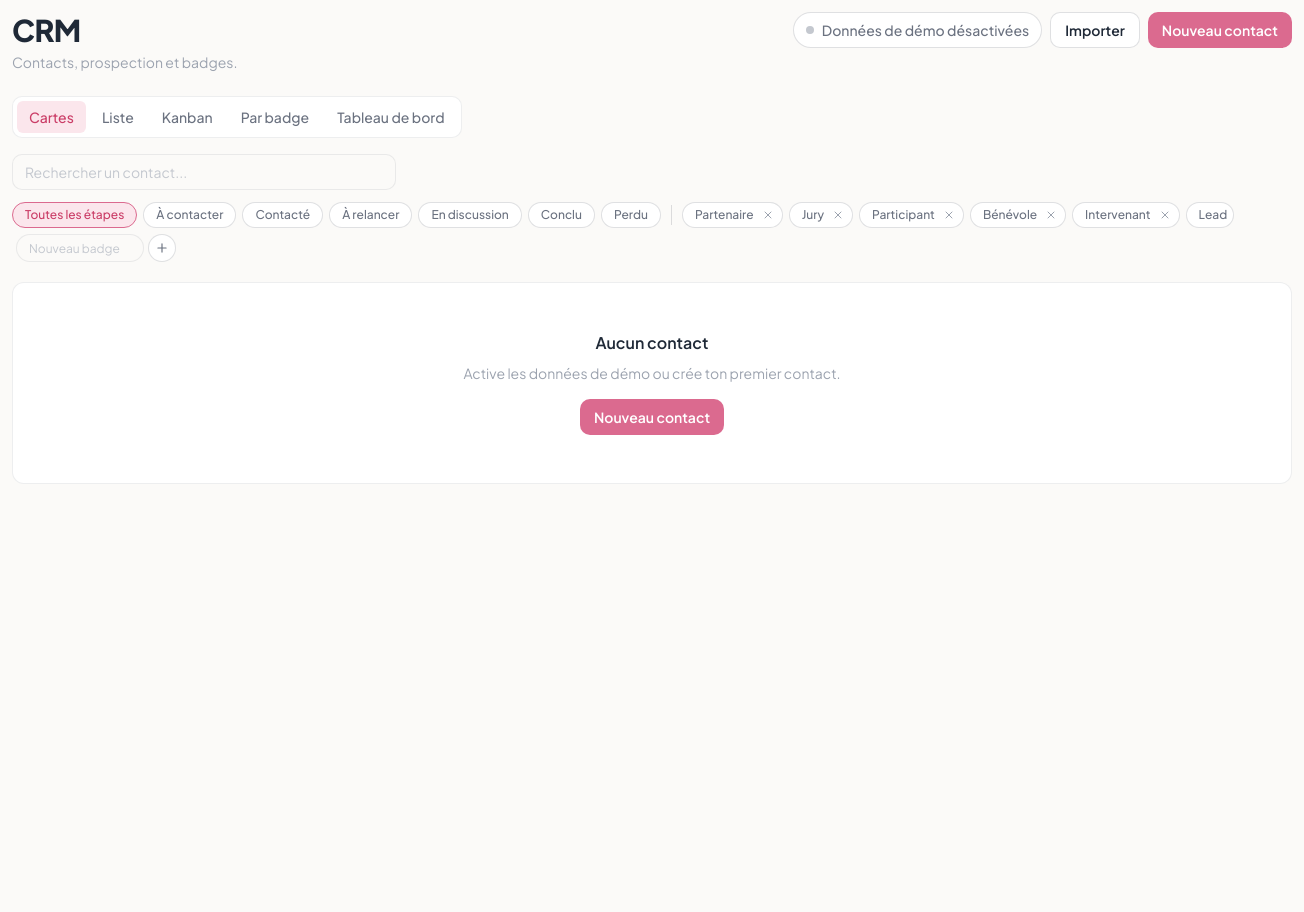
Test: CrmPage › affiche l'état vide puis charge les données de démo
Expected: the heading "CRM" is shown, 12,11 -> 80,49
Expected: the text "Aucun contact" is shown, 596,331 -> 708,355
Click the button "Données de démo désactivées": (918, 30) 793,12 -> 1042,48
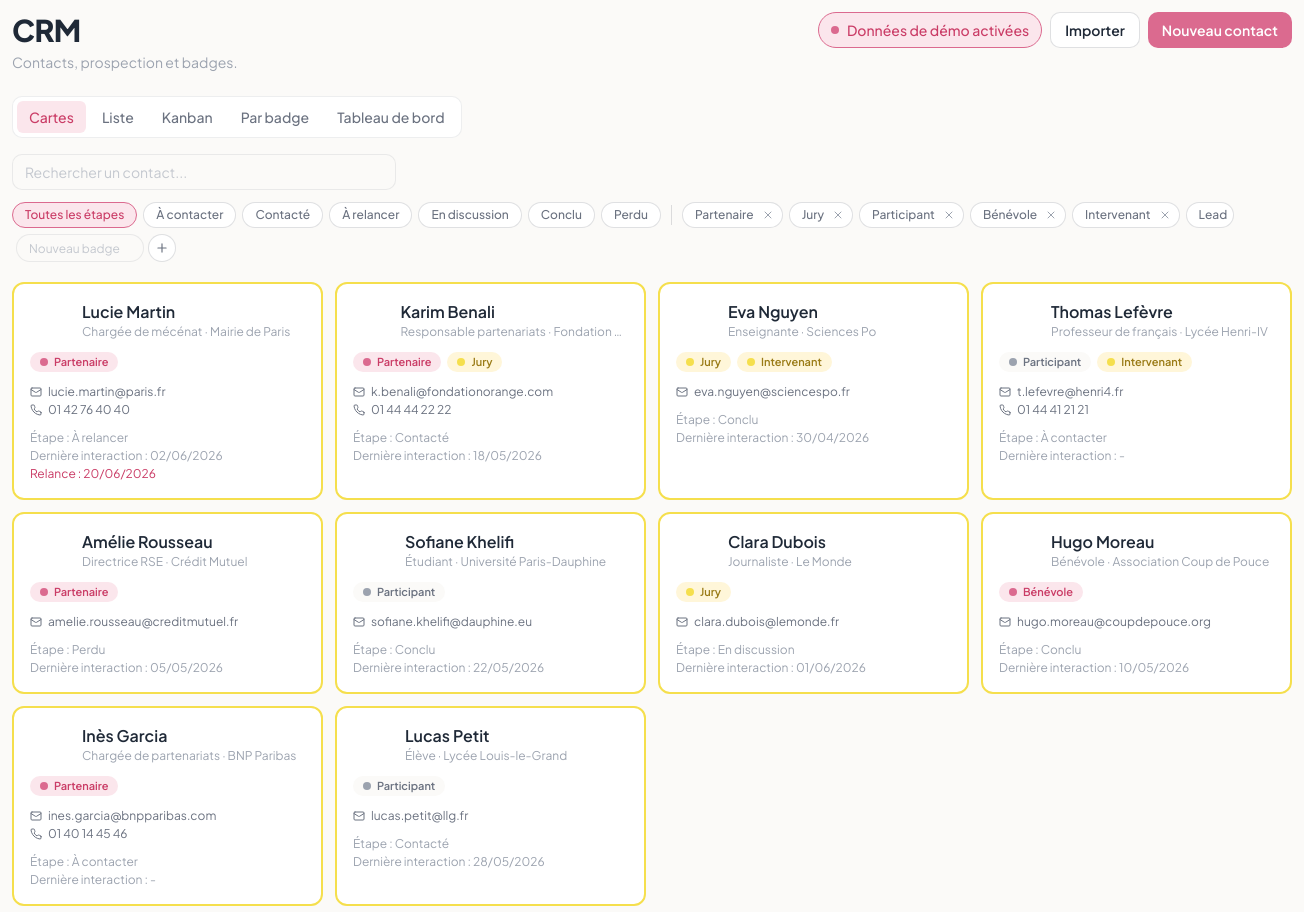
Expected: the text "Lucie Martin" is shown, 82,301 -> 175,322
